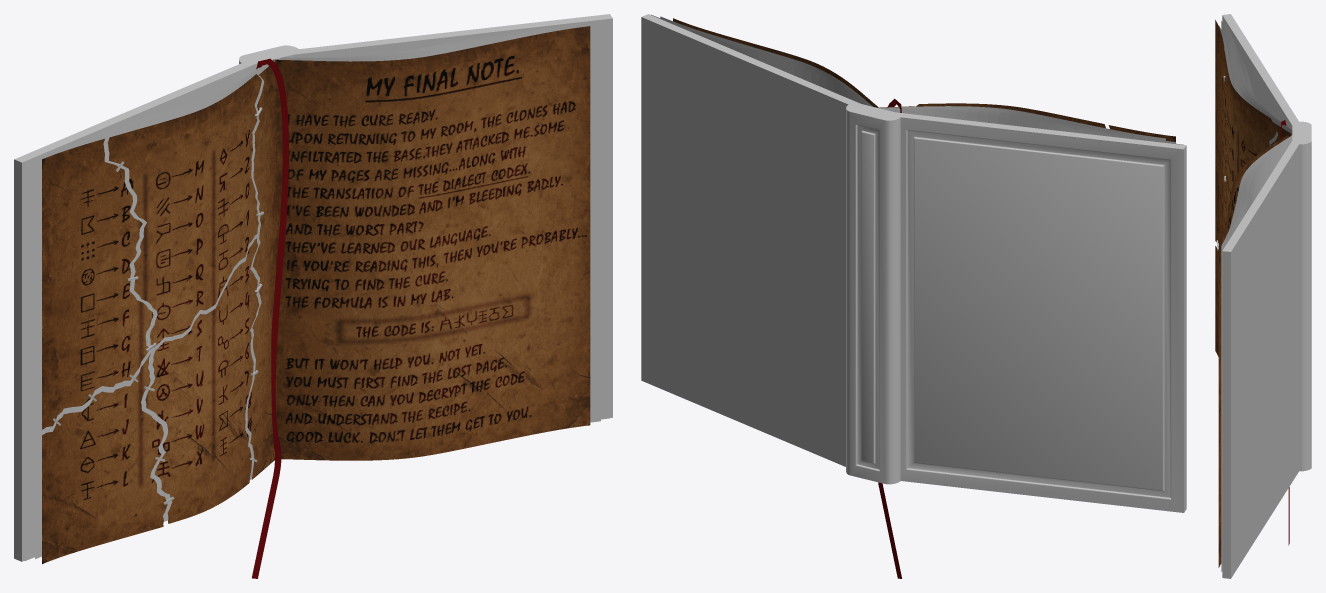
Rendered from book.fbx.
3 renders of one model, left to right at view 1: azimuth 30°, elevation 25°; view 2: azimuth 150°, elevation 25°; view 3: azimuth 270°, elevation 25°, orthographic. The views are drawn at different scales.
Visible parts, largest first — view 1: Plane.006, DialectTopRight, DialectTopLeft, DialectBottomRight, DialectBottomLeft, LeftCover, DialectLeftOver, Plane.005, Plane.011, RightCover, Plane.013, Plane.010 (+4 smaller); view 2: LeftCover, RightCover, BookForPlayer, Plane.005, Plane.010, Plane.013, Plane.006, DialectTopRight; view 3: RightCover, BookForPlayer, DialectTopRight, DialectTopLeft, LeftCover, Plane.006, Plane.010, Plane.011, Plane.001, DialectBottomLeft, Plane.005, Plane.004 (+7 smaller).
Part boxes in pixels (left/top/right/bottom): Plane.006: left=273, top=26, right=590, bottom=460; DialectTopRight: left=107, top=74, right=261, bottom=347; DialectTopLeft: left=42, top=138, right=153, bottom=429; DialectBottomRight: left=145, top=238, right=259, bottom=523; DialectBottomLeft: left=42, top=353, right=167, bottom=563; LeftCover: left=14, top=60, right=255, bottom=561; DialectLeftOver: left=247, top=60, right=275, bottom=479; Plane.005: left=24, top=67, right=258, bottom=560; Plane.011: left=287, top=22, right=600, bottom=422; RightCover: left=293, top=14, right=612, bottom=417; Plane.013: left=48, top=59, right=275, bottom=521; Plane.010: left=282, top=19, right=609, bottom=419; LeftCover: left=895, top=112, right=1186, bottom=512; RightCover: left=641, top=14, right=860, bottom=466; BookForPlayer: left=846, top=102, right=904, bottom=484; Plane.005: left=887, top=109, right=1183, bottom=144; Plane.010: left=651, top=14, right=870, bottom=106; Plane.013: left=877, top=106, right=1165, bottom=140; Plane.006: left=673, top=18, right=879, bottom=108; DialectTopRight: left=916, top=103, right=1105, bottom=128; RightCover: left=1222, top=141, right=1300, bottom=578; BookForPlayer: left=1292, top=121, right=1311, bottom=471; DialectTopRight: left=1224, top=50, right=1276, bottom=215; DialectTopLeft: left=1215, top=20, right=1227, bottom=242; LeftCover: left=1222, top=14, right=1298, bottom=129; Plane.006: left=1218, top=133, right=1291, bottom=567; Plane.010: left=1222, top=136, right=1292, bottom=250; Plane.011: left=1221, top=136, right=1291, bottom=571; Plane.001: left=1222, top=22, right=1292, bottom=134; DialectBottomLeft: left=1215, top=246, right=1218, bottom=356; Plane.005: left=1222, top=17, right=1291, bottom=129; Plane.004: left=1221, top=21, right=1280, bottom=122.
Size of the model in its own units: 0.6247 by 0.5228 by 0.1072.
